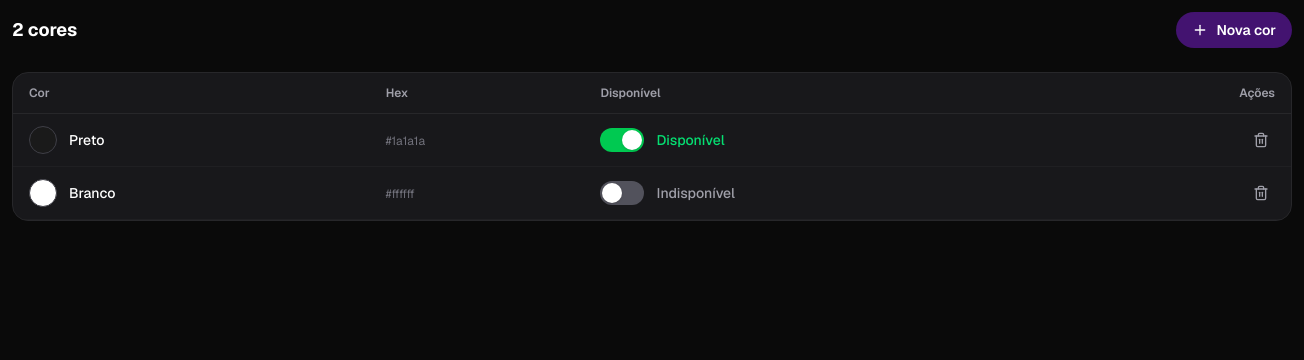
Scenario: ColorManager › shows add form when "Nova cor" is clicked
Click the button "Nova cor": [1234, 30] box left=1176, top=12, right=1292, bottom=48
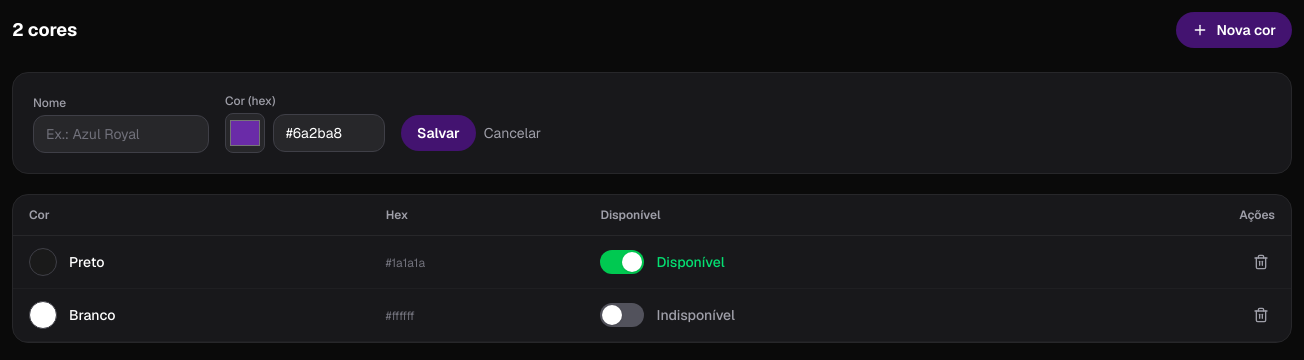
Check: the field with placeholder "Ex.: Azul Royal" is shown, box left=33, top=115, right=209, bottom=153
